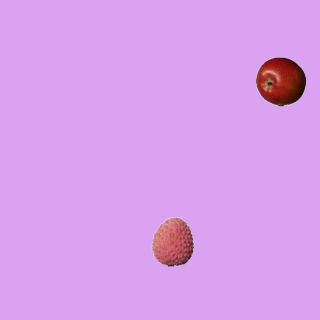Apple Braeburn: (255, 56, 305, 106)
Lychee: (147, 216, 197, 266)
